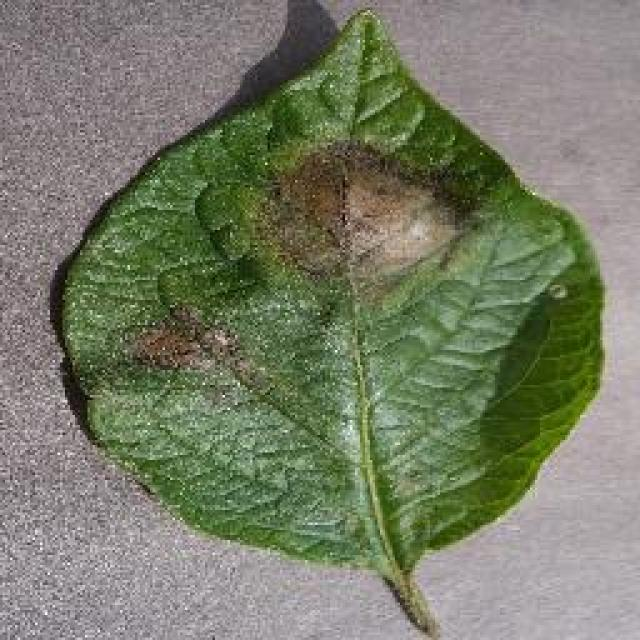late_blight: (52, 3, 610, 635)
